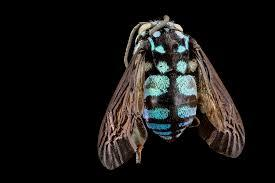Thyreus: (90, 10, 255, 171)
